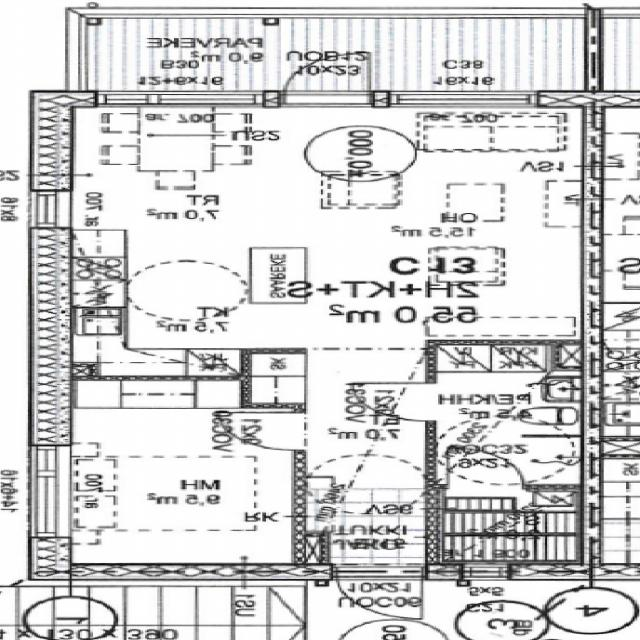door: (336, 564, 422, 623), (285, 48, 370, 107), (350, 382, 436, 420), (448, 446, 524, 489), (221, 412, 306, 449)
